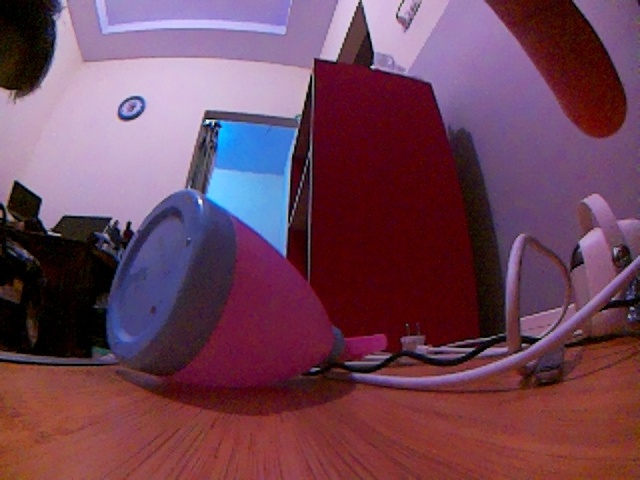korban: (107, 185, 398, 404)
